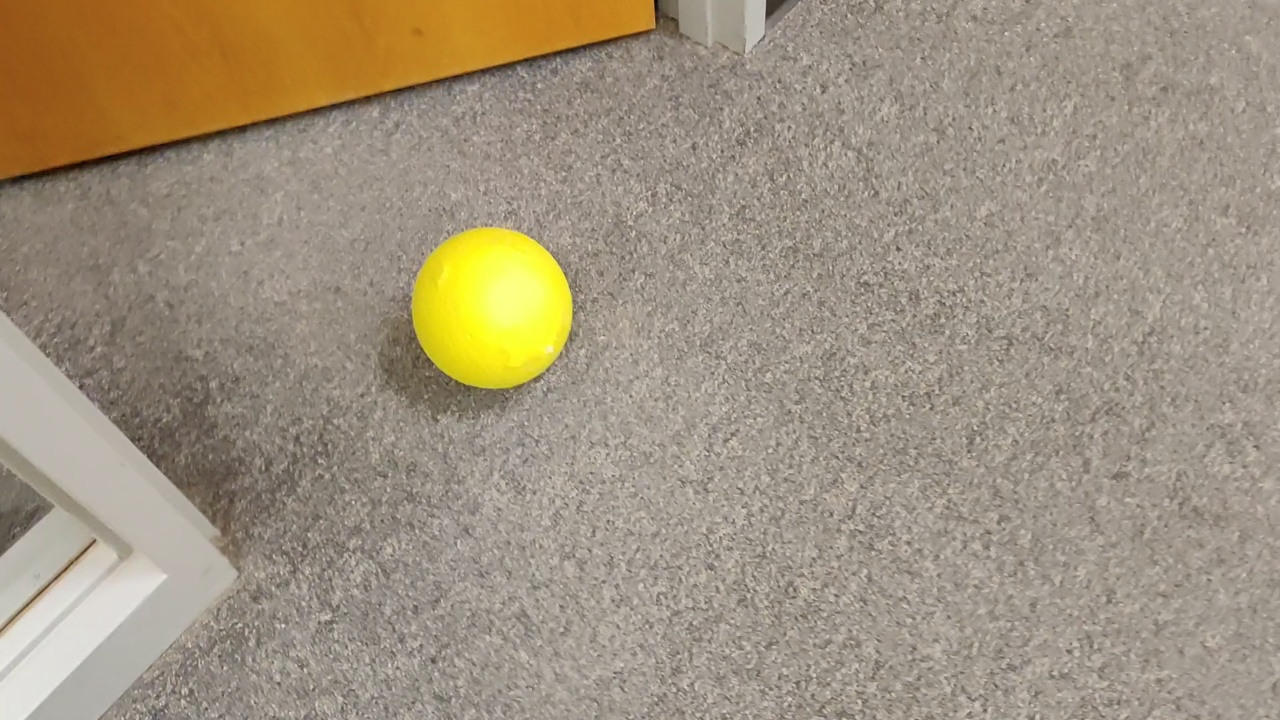Ball: (401, 221, 579, 393)
